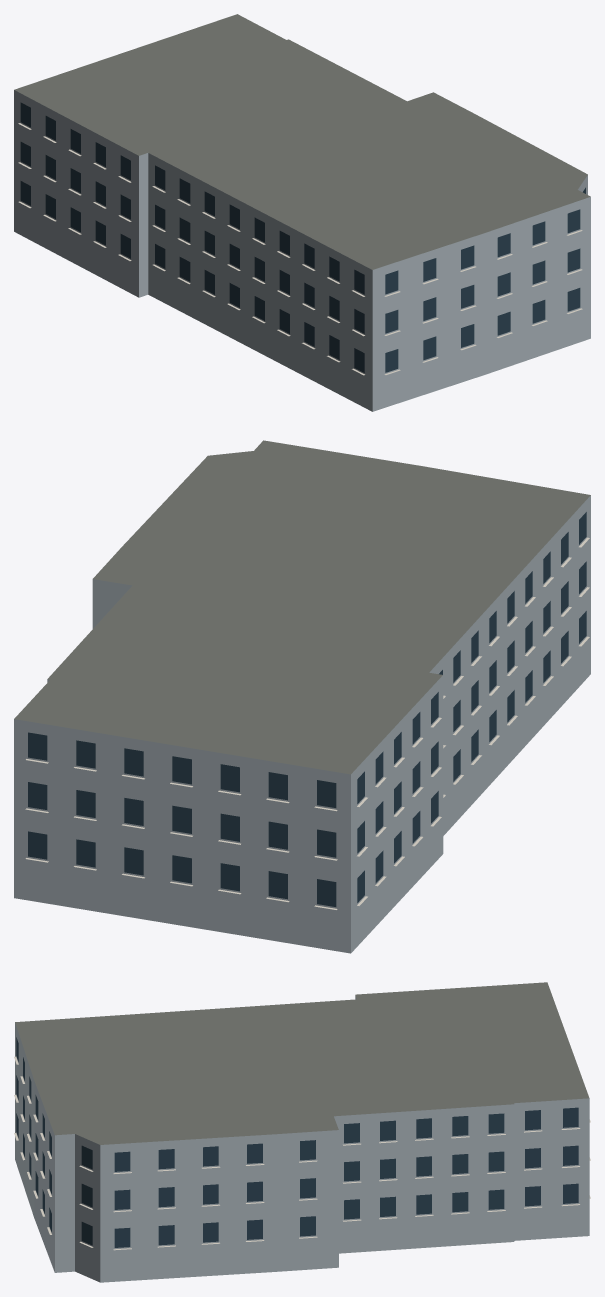
3 renders of one model, top to bottom at view 1: azimuth 30°, elevation 25°; view 2: azimuth 150°, elevation 25°; view 3: azimuth 270°, elevation 25°, orthographic. The views are drawn at different scales.
Visible parts, largest first — view 1: Footprint 0, Inferred window bays, Window sills; view 2: Footprint 0, Inferred window bays, Window sills; view 3: Footprint 0, Inferred window bays, Window sills.
Boxes of the visible parts, x1,y1,x2,y2 form: Footprint 0: (14, 14, 590, 411); Inferred window bays: (20, 102, 585, 372); Window sills: (18, 123, 582, 375); Footprint 0: (14, 440, 590, 953); Inferred window bays: (28, 512, 586, 906); Window sills: (25, 537, 589, 909); Footprint 0: (15, 982, 589, 1282); Inferred window bays: (16, 1037, 578, 1247); Window sills: (14, 1056, 590, 1250).
Bounding box in the file's own units: 30.02 × 11.76 × 44.68.
